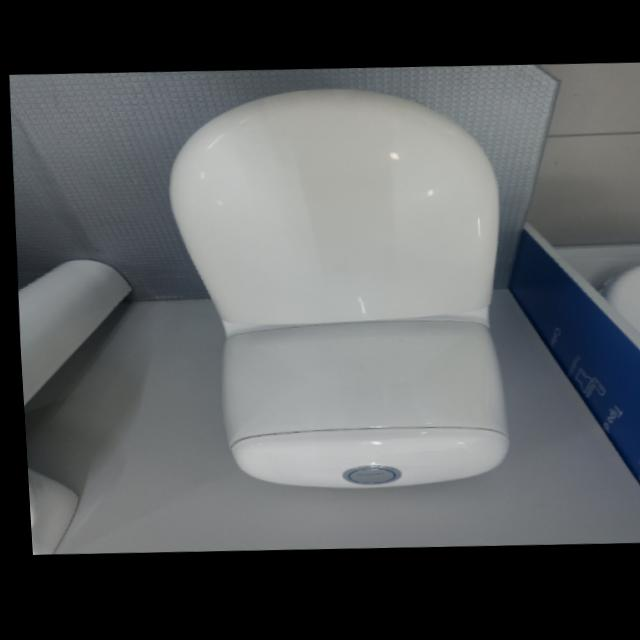toilet: (155, 83, 515, 499)
